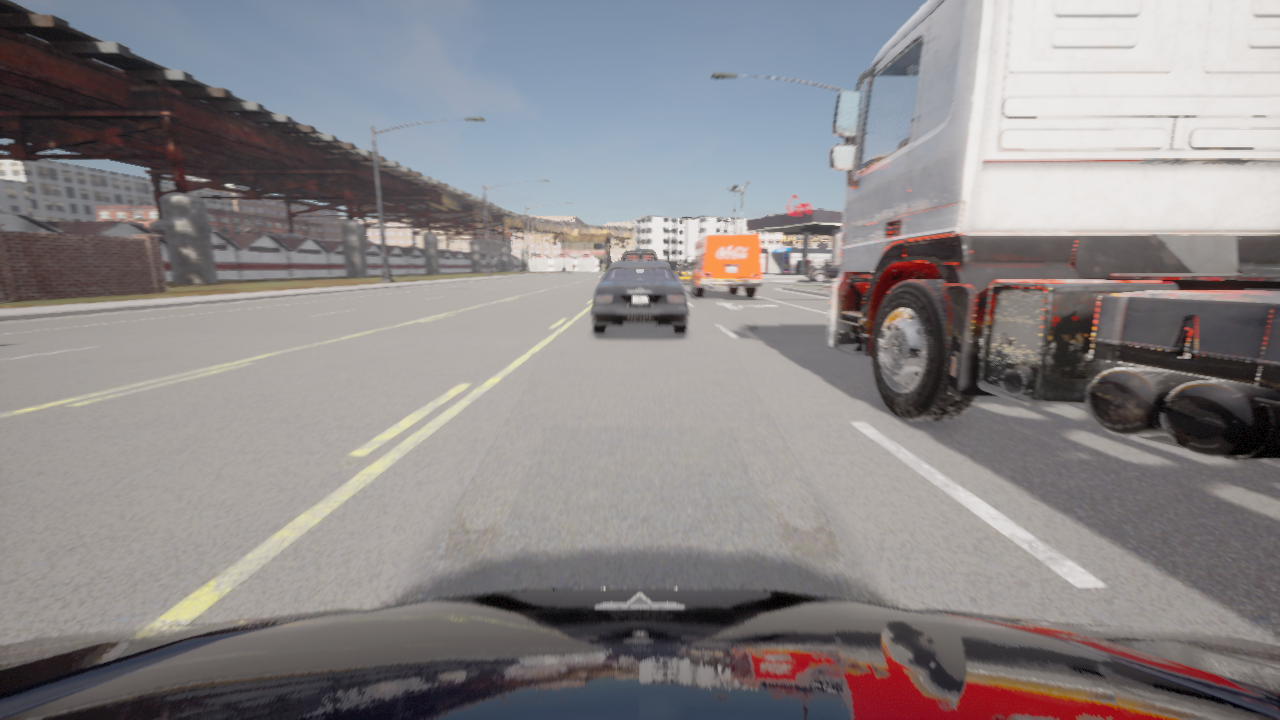cyclist: (827, 0, 1279, 460), (0, 588, 1279, 719), (591, 262, 688, 334), (687, 234, 762, 298), (804, 260, 839, 282), (673, 263, 694, 281), (621, 252, 657, 261)
